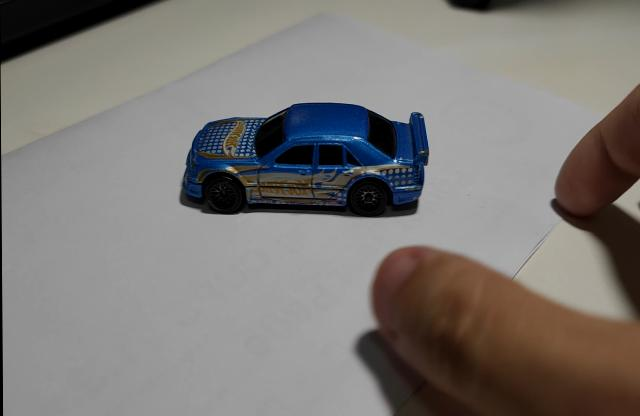04_MERZEDES: (178, 103, 427, 220)
